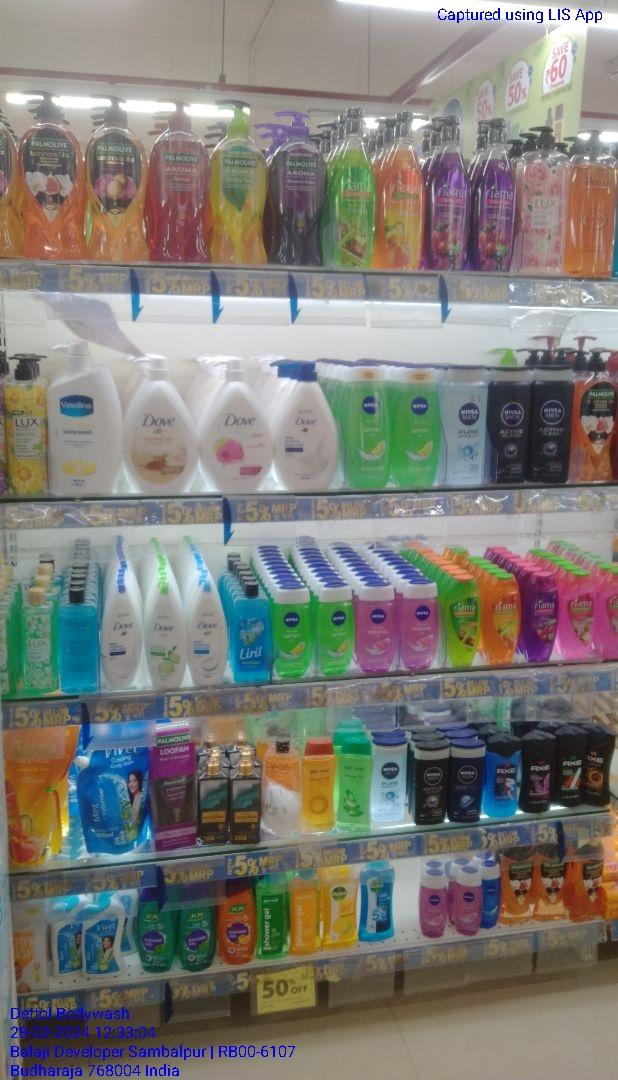Dettol_Bodywash_Cool: (361, 859, 395, 942)
Dettol_Bodywash_Refresh: (322, 862, 357, 952)
Dove_Deep_Moisture_Body_Wash_250ML: (104, 584, 141, 692)
Dove_Gentle_Exfoliating_Body_Wash_250ML: (188, 580, 227, 689)
Dove_Refreshing_Body_Wash_250ML: (147, 581, 185, 692)
Fiama_Shower_Gel_Lemongrass_and_Jojoba_250ML: (445, 574, 479, 670)
Fiama_Shower_Gel_Patchouli_and_Macadamia_250ML: (560, 566, 597, 663)
Fiama_Shower_Gel_Peach_and_Avocado_250ML: (484, 572, 521, 666)
Get_Real_Shower_Gel_Moisturising_Glycerin_300ML: (302, 736, 335, 835)
Joy_Shower_Gel_Mandarin_and_Lemongrass_250ML: (217, 877, 258, 966)
Joy_Shower_Gel_Mint_and_Eucalyptus_250ML: (136, 889, 173, 973), (179, 885, 213, 971)
Liril_Cooling_Mint_Body_Wash_250ML: (231, 580, 269, 686)
Lux_Body_Wash_Skin_Detox_Freesia_Scent_and_Alove_Vera_245ML: (20, 589, 57, 696)
Nivea_Shower_Gel_Lemon_and_Oil_250ML: (346, 359, 391, 490), (396, 362, 441, 490), (272, 583, 312, 680), (318, 581, 353, 678)
Nivea_Shower_Gel_Waterlily_and_Oil_250ML: (357, 579, 397, 676), (400, 579, 437, 672), (455, 872, 484, 938), (421, 867, 447, 938)
Palmolive_Luminous_Oils_With_White_Orchid_Shower_Gel_250ML: (501, 841, 534, 927), (536, 841, 567, 923), (575, 840, 605, 922)
Pears_Pure_Glycerin_and_Mint_Extracts_Body_Wash_250ML: (60, 585, 97, 696)
